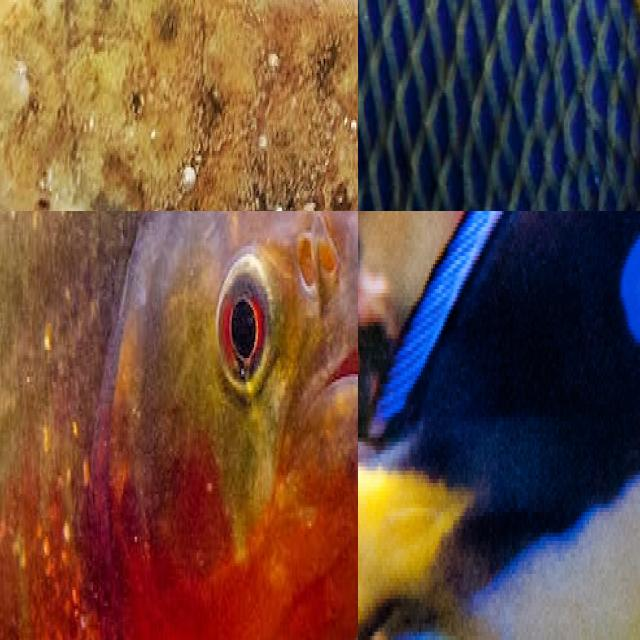fish: (0, 211, 358, 640), (358, 211, 640, 640), (0, 0, 358, 211), (358, 0, 640, 50)
